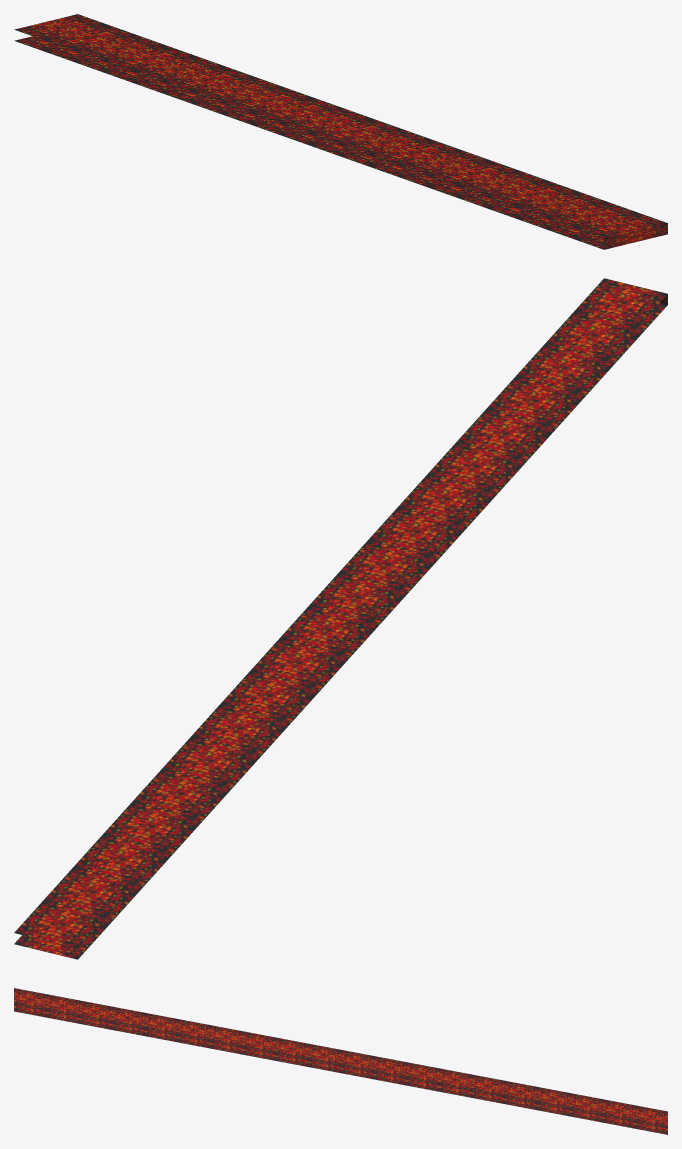
Rendered from CourseAki_Floor_1.fbx.
3 renders of one model, top to bottom at view 1: azimuth 30°, elevation 25°; view 2: azimuth 150°, elevation 25°; view 3: azimuth 270°, elevation 25°, orthographic. The views are drawn at different scales.
Parts seen in each view (by area): view 1: polySurface9; view 2: polySurface9; view 3: polySurface9.
Boxes of the visible parts, <box> form: polySurface9: <box>14,14,667,249</box>; polySurface9: <box>14,278,667,959</box>; polySurface9: <box>14,988,667,1134</box>.
Bounding box in the file's own units: 6 × 21 × 96.
1 material, 1 textured.
